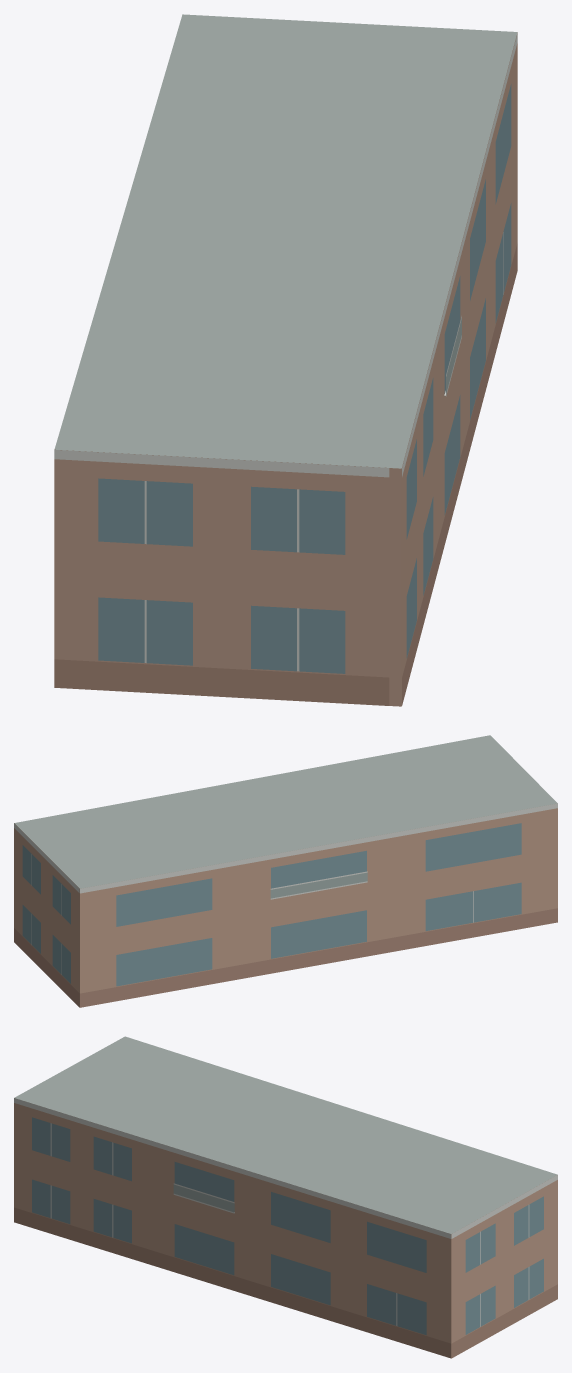
The model's file is survey-upis-32999652.glb.
3 views of the same model, one above another, from view 1: azimuth 30°, elevation 25°; view 2: azimuth 150°, elevation 25°; view 3: azimuth 270°, elevation 25° (orthographic). The views are drawn at different scales.
Parts seen in each view (by area): view 1: survey-upis-32999652.tmp; view 2: survey-upis-32999652.tmp; view 3: survey-upis-32999652.tmp.
Part boxes in pixels (box(x1,y1,x2,y2)): survey-upis-32999652.tmp: box(54, 14, 517, 706); survey-upis-32999652.tmp: box(14, 735, 557, 1007); survey-upis-32999652.tmp: box(14, 1036, 557, 1358).
Size of the model in its own units: 20.81 by 6.1 by 24.18.
